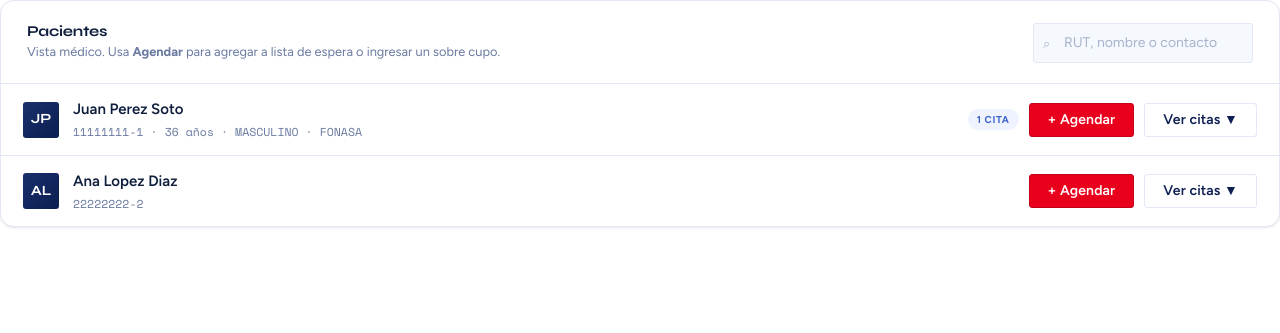
Test: DoctorPage › deshabilita el botón de cancelar cuando cancelandoCitaId coincide
Click the button "Ver citas ▼" in the row of "· FONASA". click: {"x": 1201, "y": 120}
box: [1144,103,1257,137]
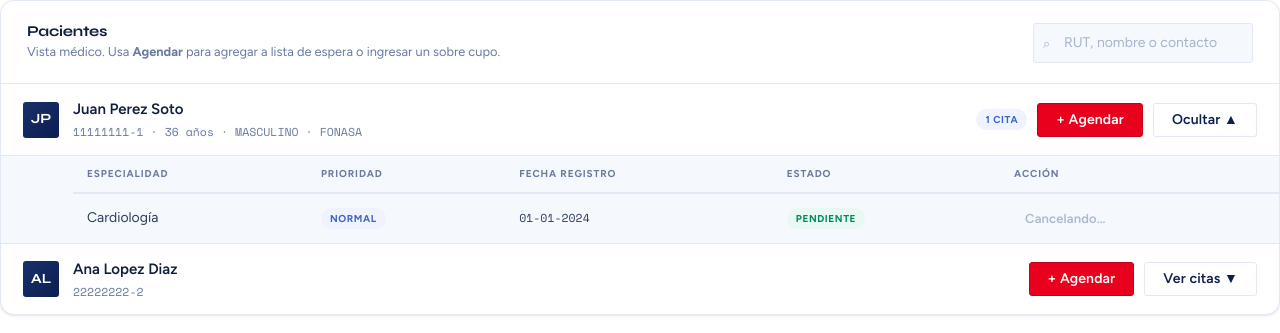
Now the button "Cancelando…" is disabled, box [1014,205,1116,232]
